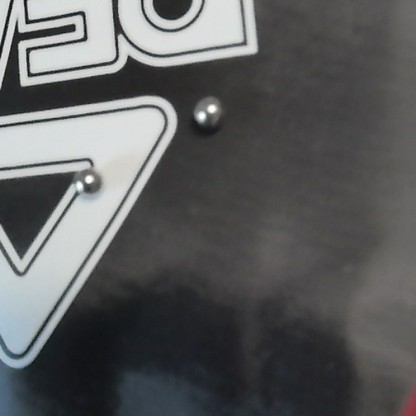ironball: (193, 97, 219, 125), (74, 168, 101, 192)
